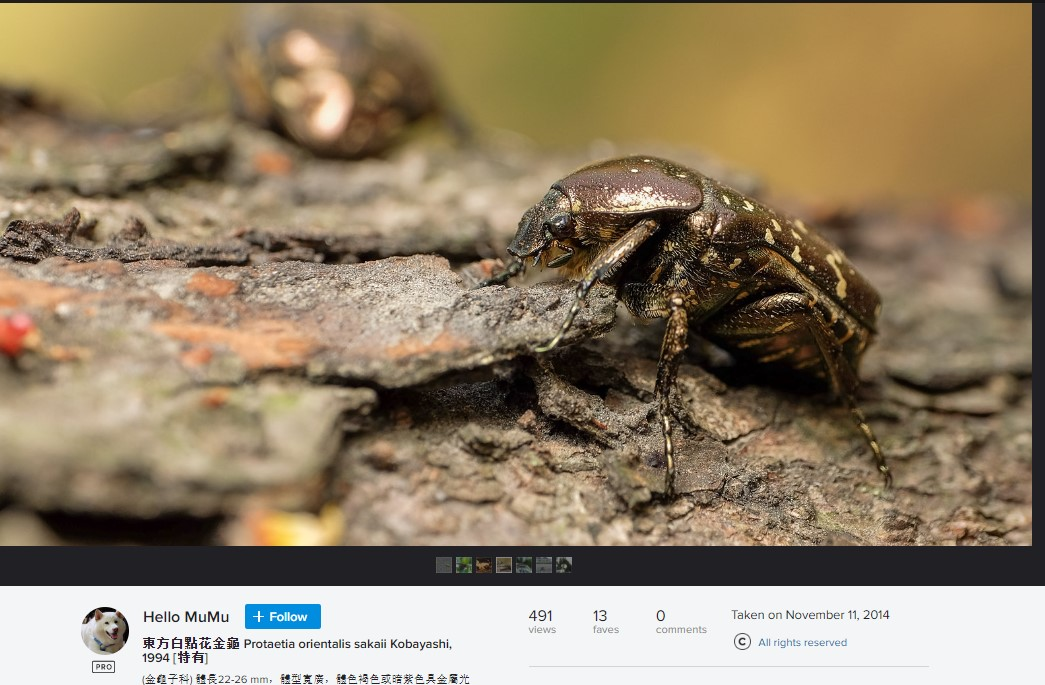Protaetia _orientalis: (487, 145, 897, 492)
